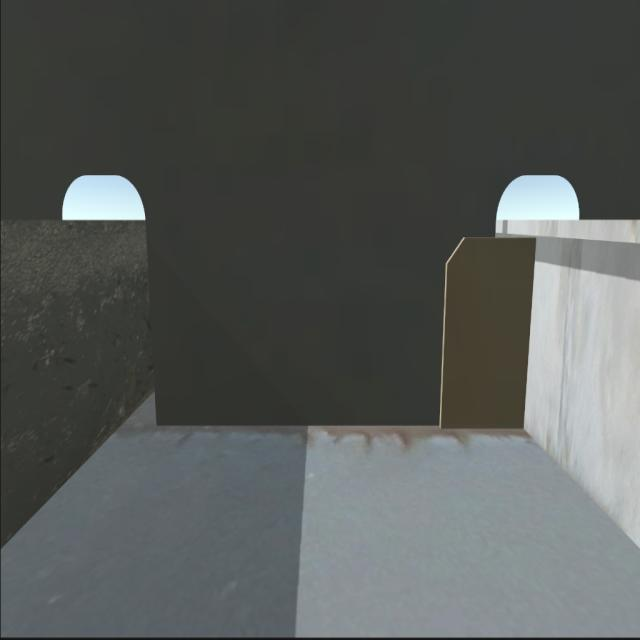fillet_yong_jeop_jang: (151, 406, 534, 438)
longi_yong_jeop_jang: (521, 215, 541, 428)
plate_CP03: (437, 225, 529, 432)
